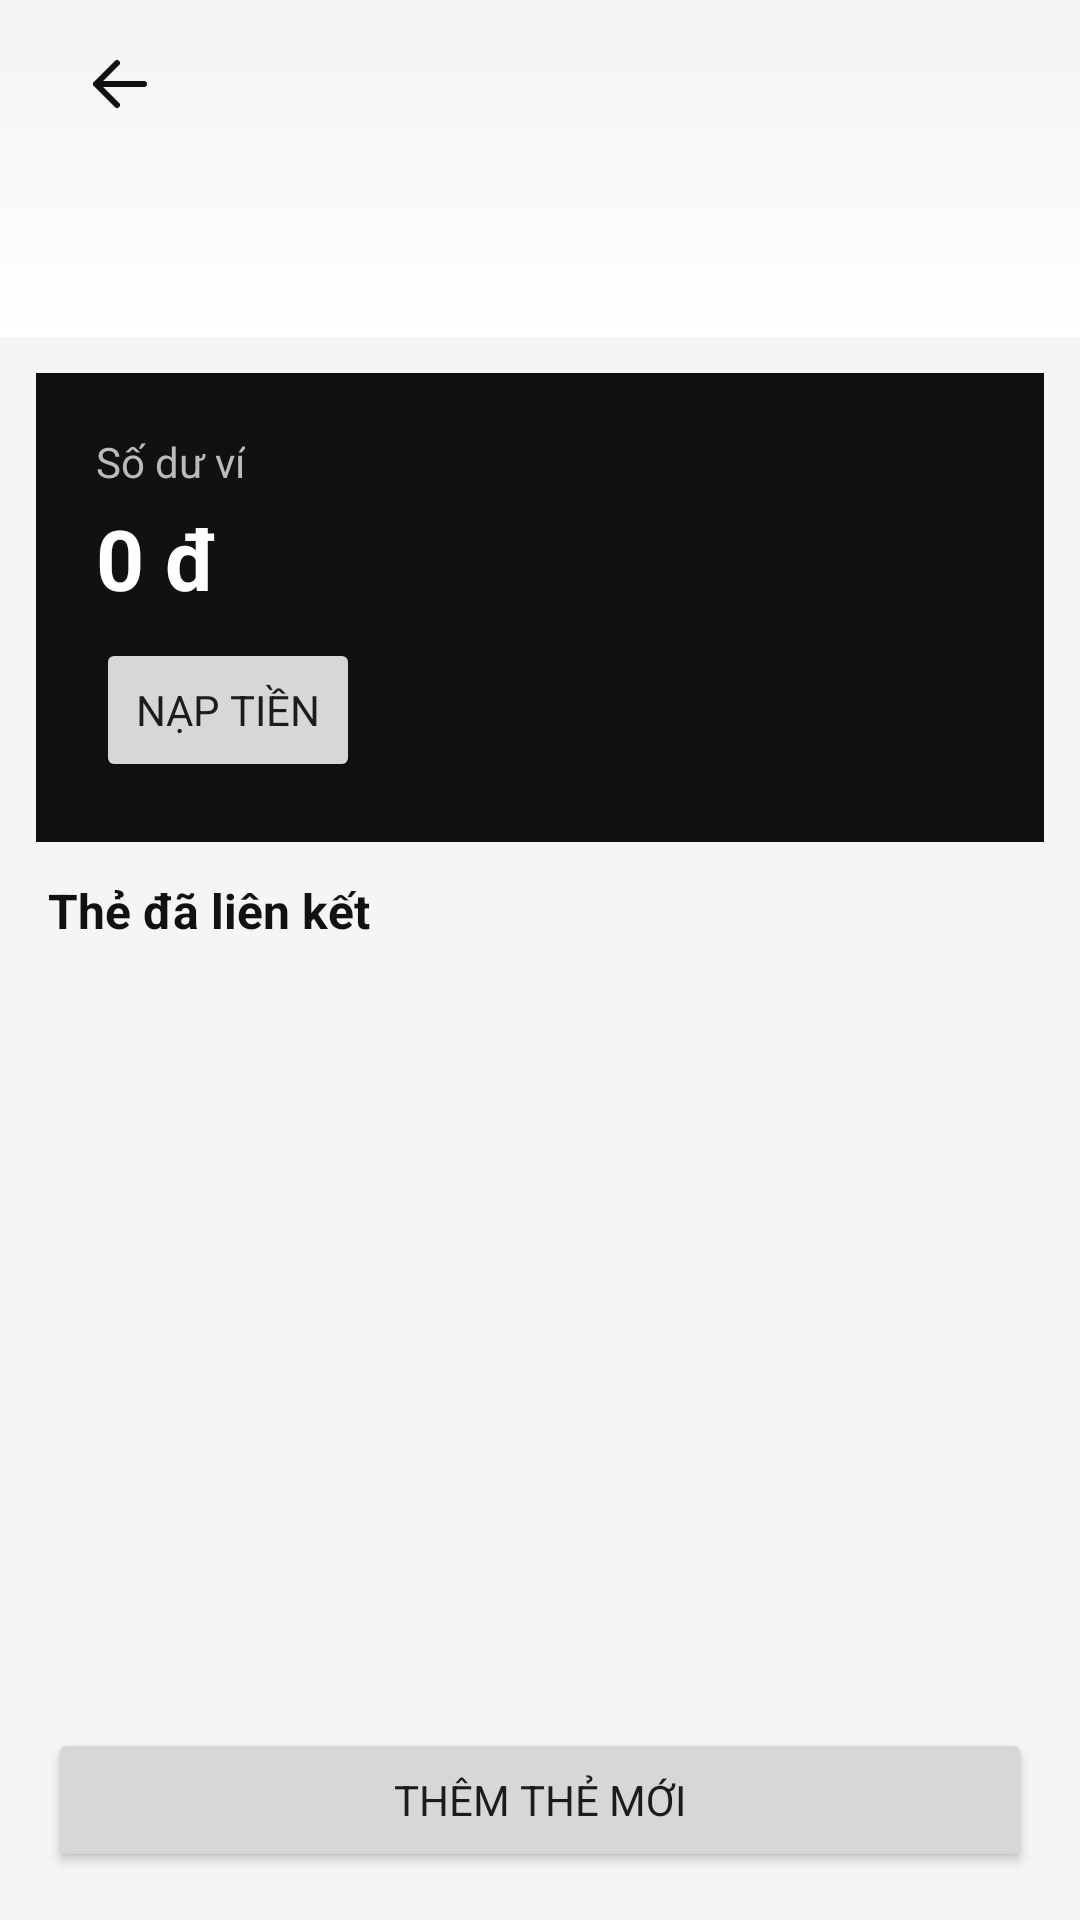

Icons on this 1080w x 1920h Android screen, each with the point to tap as (x=x, y=y):
Quay lại: (x=120, y=84)
